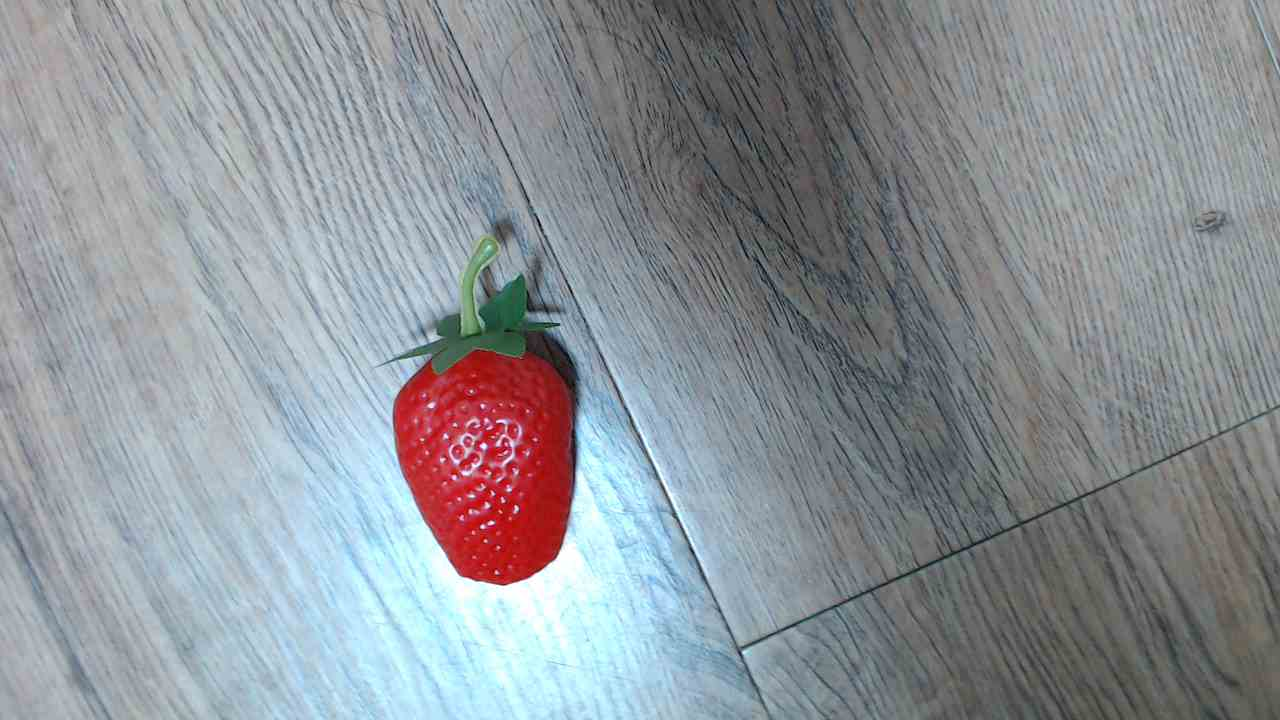strawberry: (386, 310, 611, 590)
